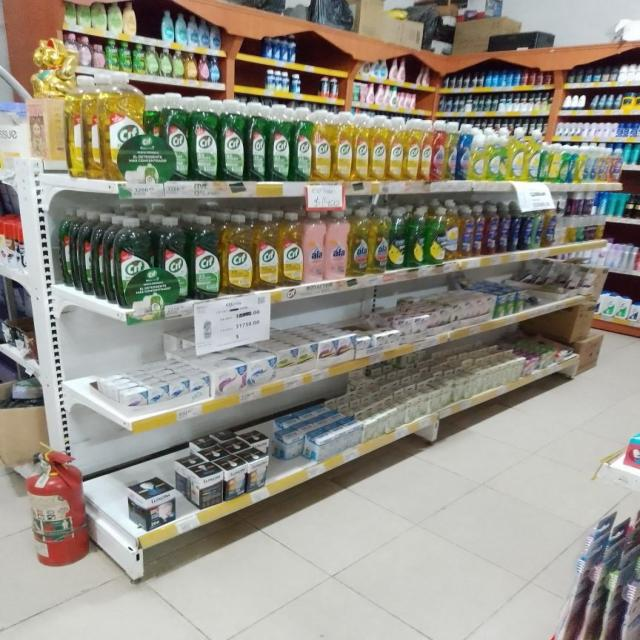ala_conc_amarillo: (348, 208, 368, 276), (369, 208, 389, 274), (446, 121, 458, 181)
ala_conc_rojo: (432, 120, 446, 181)
ala_ultra_rosa: (325, 209, 348, 280), (303, 210, 324, 284)
cif_conc_bot_amarilla: (102, 76, 144, 182), (222, 213, 252, 294), (254, 212, 279, 290), (84, 76, 101, 180), (280, 212, 302, 286), (67, 81, 83, 178), (313, 108, 332, 182), (334, 111, 353, 181), (370, 115, 387, 181), (388, 116, 404, 181), (354, 113, 369, 181), (405, 118, 420, 181), (420, 120, 432, 181)
cif_conc_botella_verde: (113, 216, 151, 306), (155, 215, 187, 303), (190, 215, 220, 299), (161, 92, 189, 181), (190, 95, 218, 182), (220, 98, 244, 182), (246, 100, 267, 182), (268, 104, 290, 182), (292, 107, 312, 182)
magistral_con_amarillo: (508, 127, 526, 182), (485, 128, 503, 182), (445, 204, 459, 260), (526, 126, 540, 182), (460, 205, 473, 259)
magistral_con_azul: (471, 126, 485, 182), (458, 124, 470, 180)
zorro: (473, 204, 484, 256)
